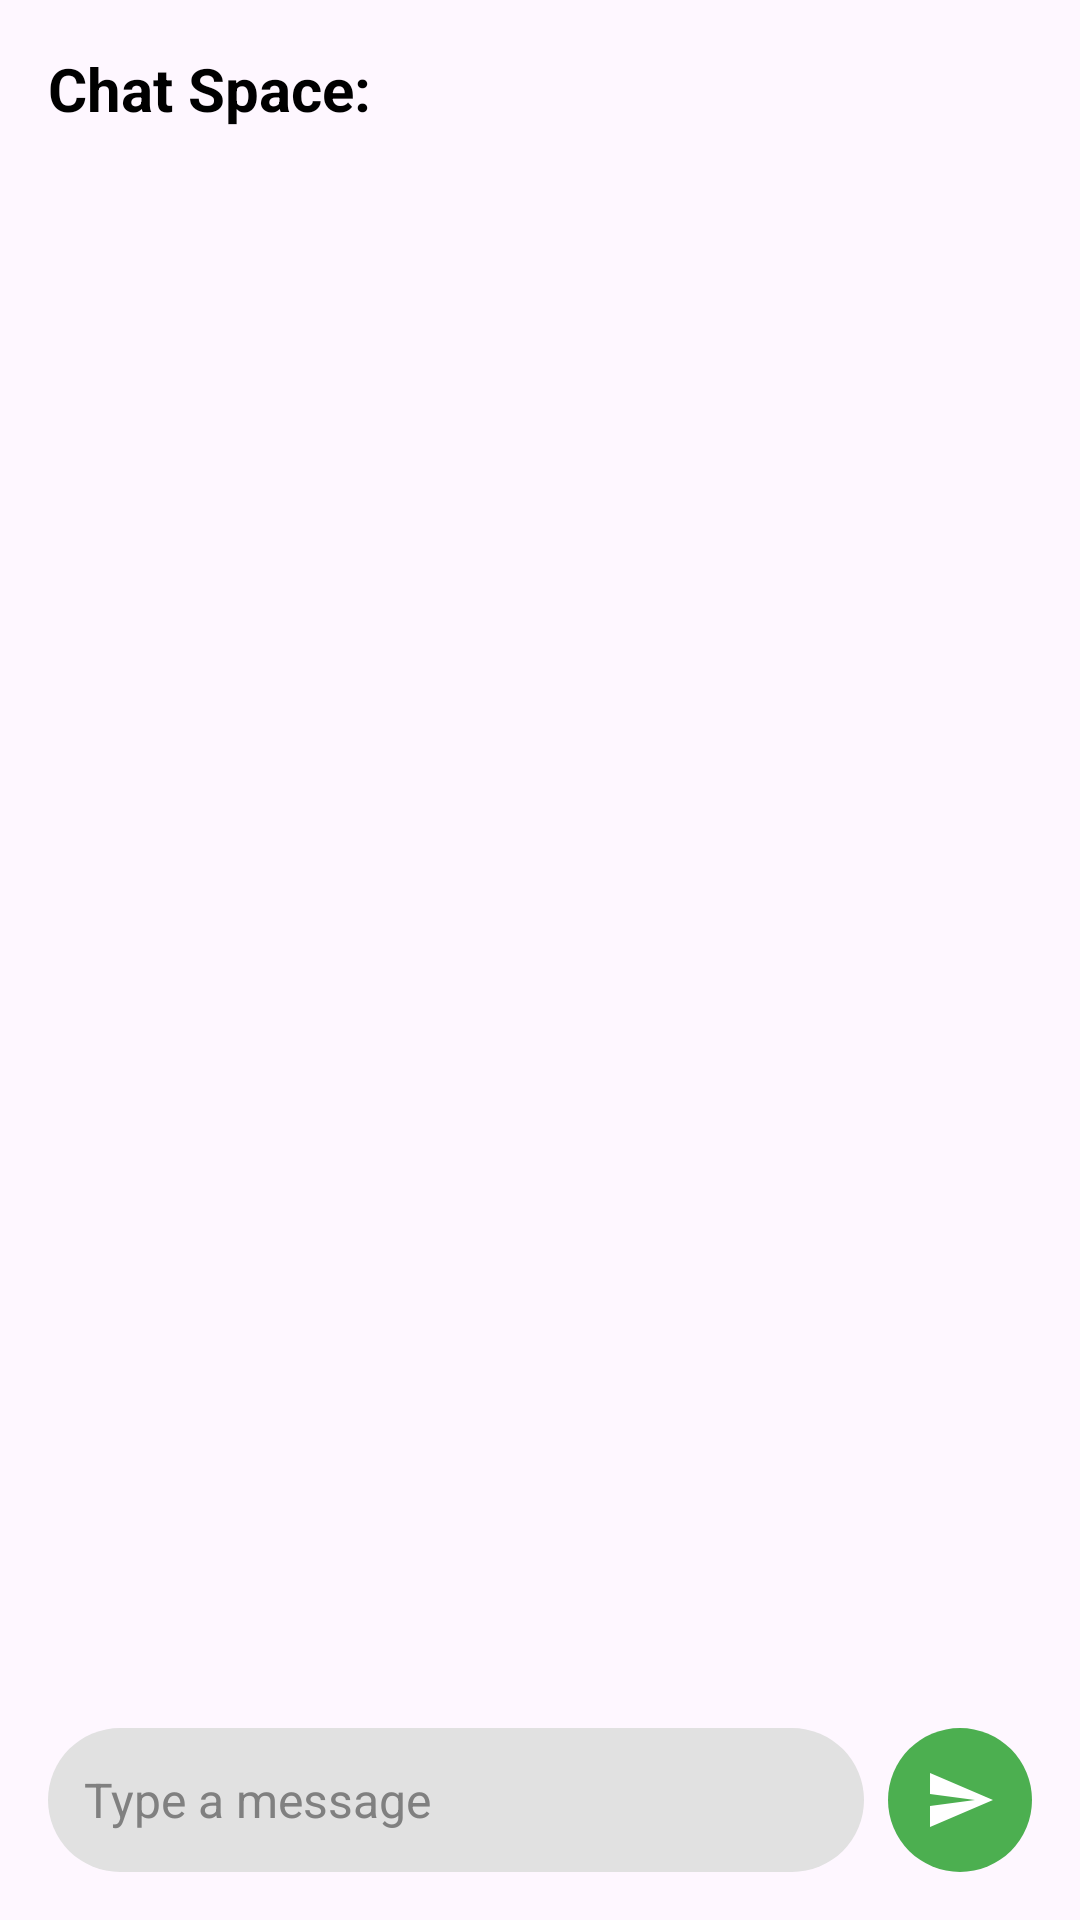

Locate icon controls on the screen. Image size 1080*1920, boxes as Rect(x1, y1, x2, y2).
send: Rect(888, 1728, 1032, 1872)
